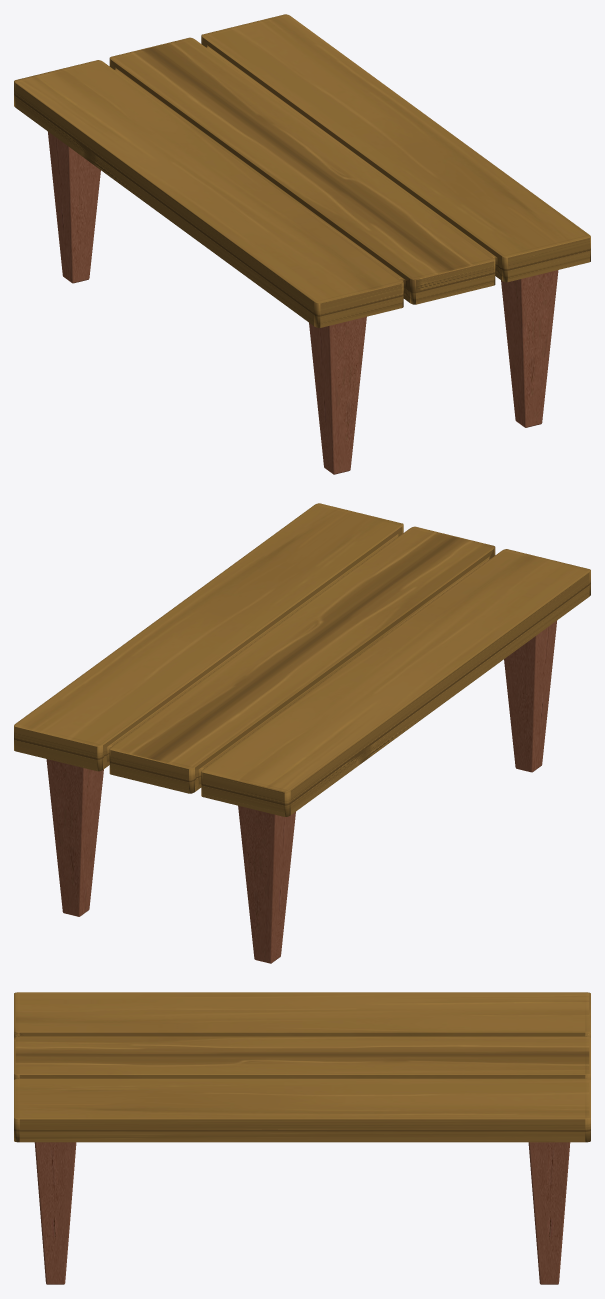
Rendered from table.obj.
3 views of the same model, one above another, from view 1: azimuth 30°, elevation 25°; view 2: azimuth 150°, elevation 25°; view 3: azimuth 270°, elevation 25° (orthographic). The views are drawn at different scales.
Parts seen in each view (by area): view 1: witch's_house.005; view 2: witch's_house.005; view 3: witch's_house.005.
Part boxes in pixels (x1,y1,x2,y2): witch's_house.005: [14, 14, 590, 474]; witch's_house.005: [14, 503, 590, 963]; witch's_house.005: [14, 992, 590, 1284].
Size of the model in its own units: 1.04 by 0.694 by 2.
